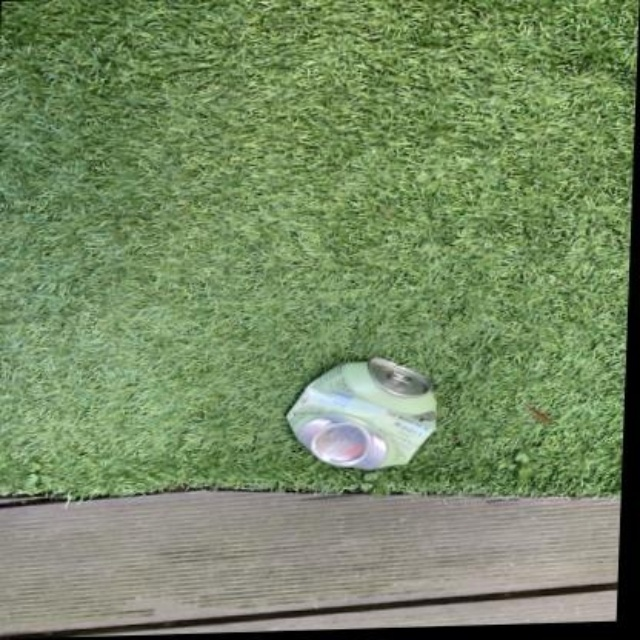trash: (288, 357, 435, 468)
